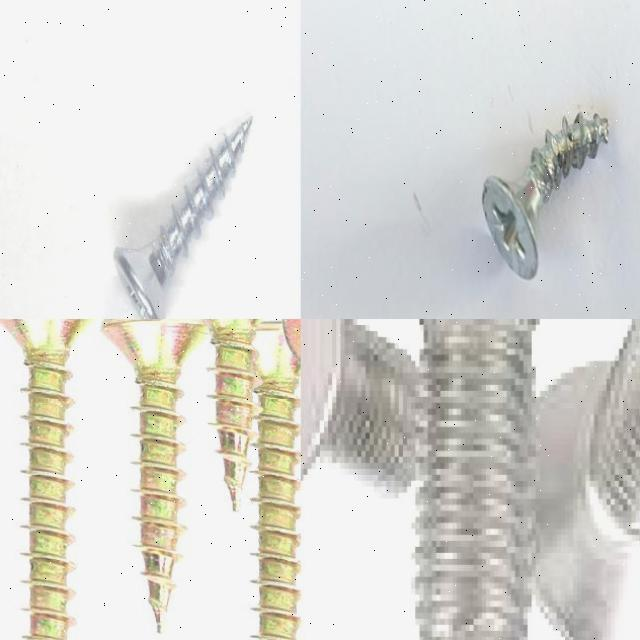Screw: (407, 319, 546, 640), (532, 319, 640, 640), (101, 319, 208, 633), (0, 319, 94, 640), (113, 117, 253, 319), (301, 319, 428, 505), (483, 113, 609, 281), (253, 323, 301, 640), (202, 319, 262, 511)
